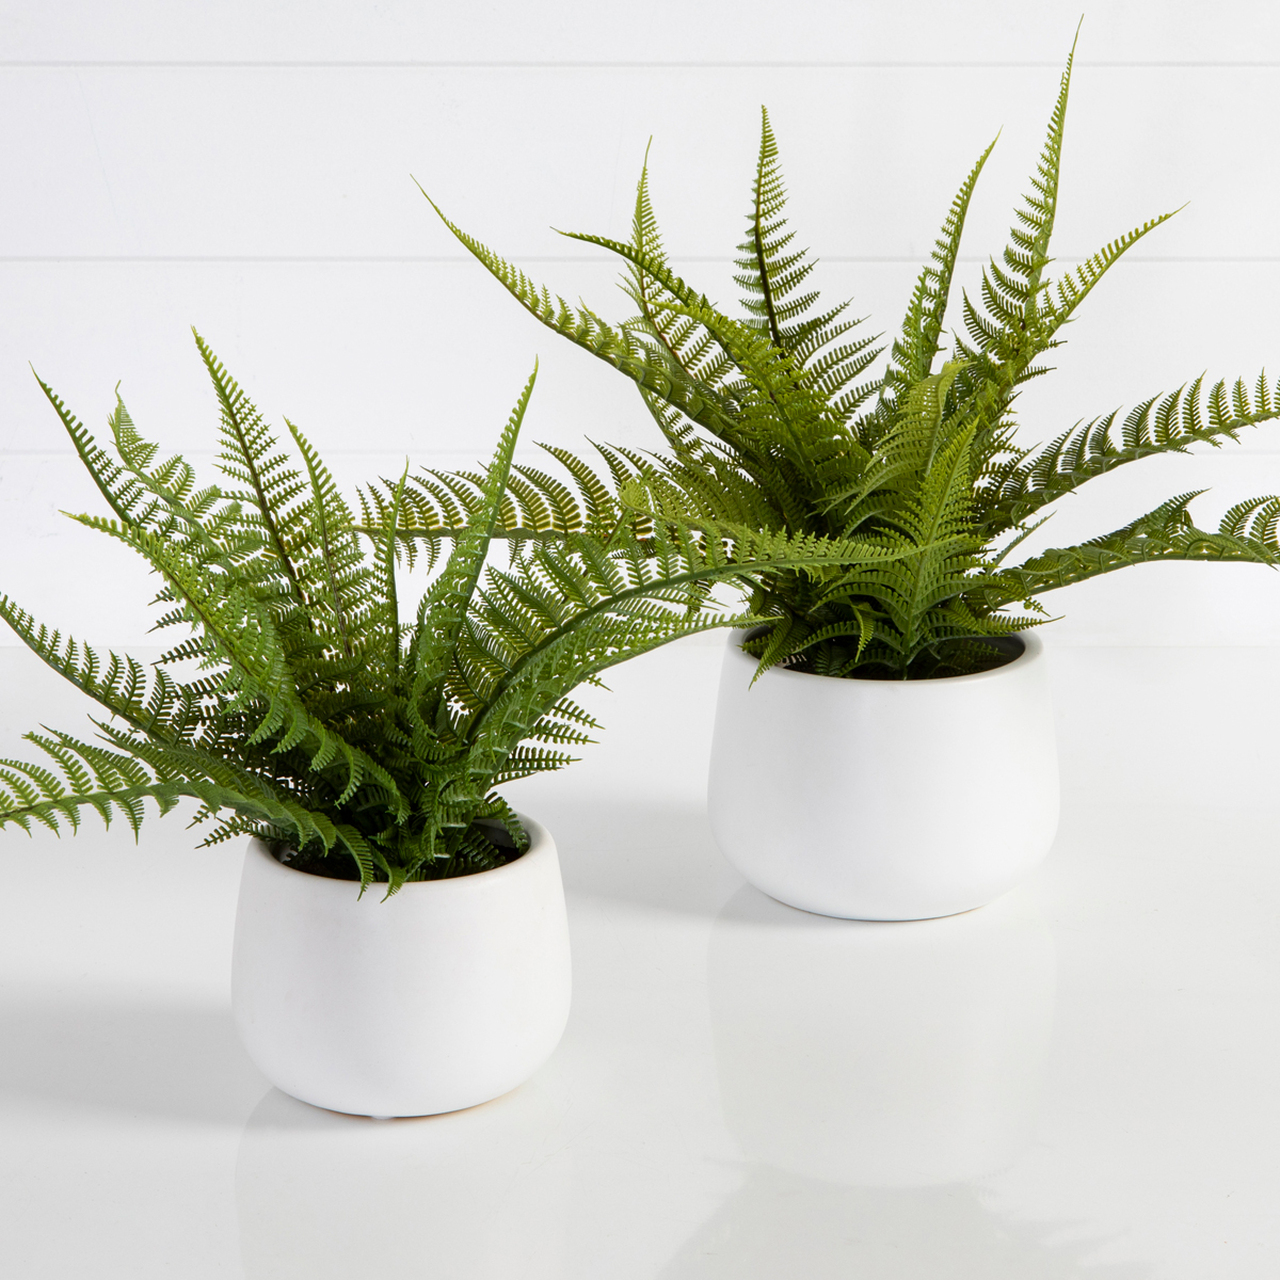tanaman: (463, 120, 1262, 956), (4, 358, 622, 1139)
